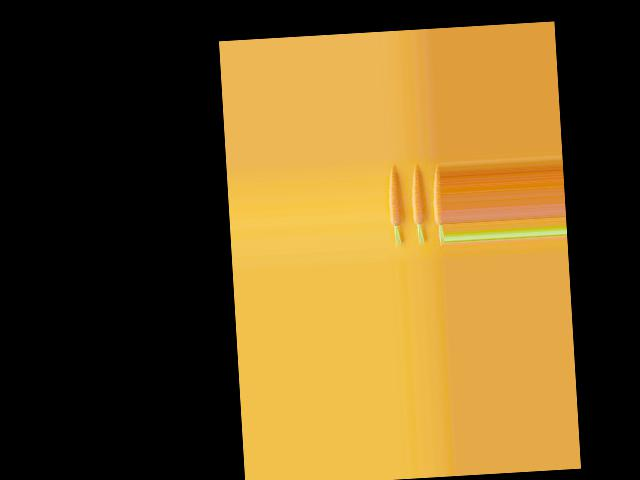carrot: (431, 173, 443, 247)
